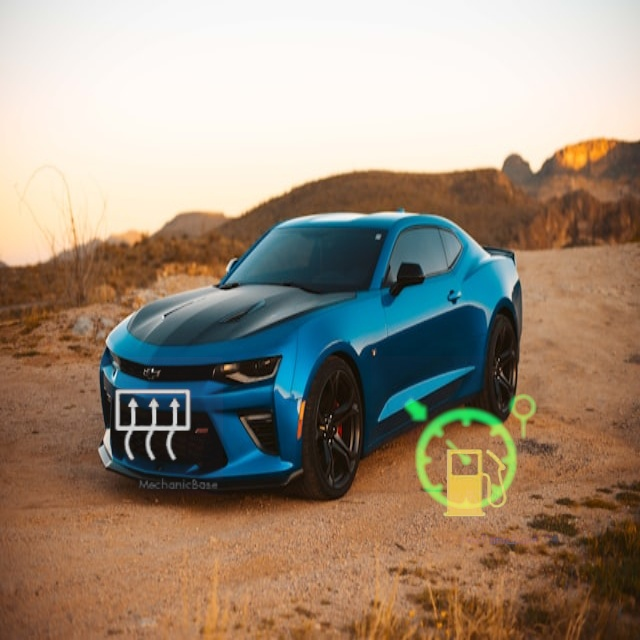symbol: (371, 356, 568, 553), (84, 357, 223, 496), (408, 417, 542, 551)
